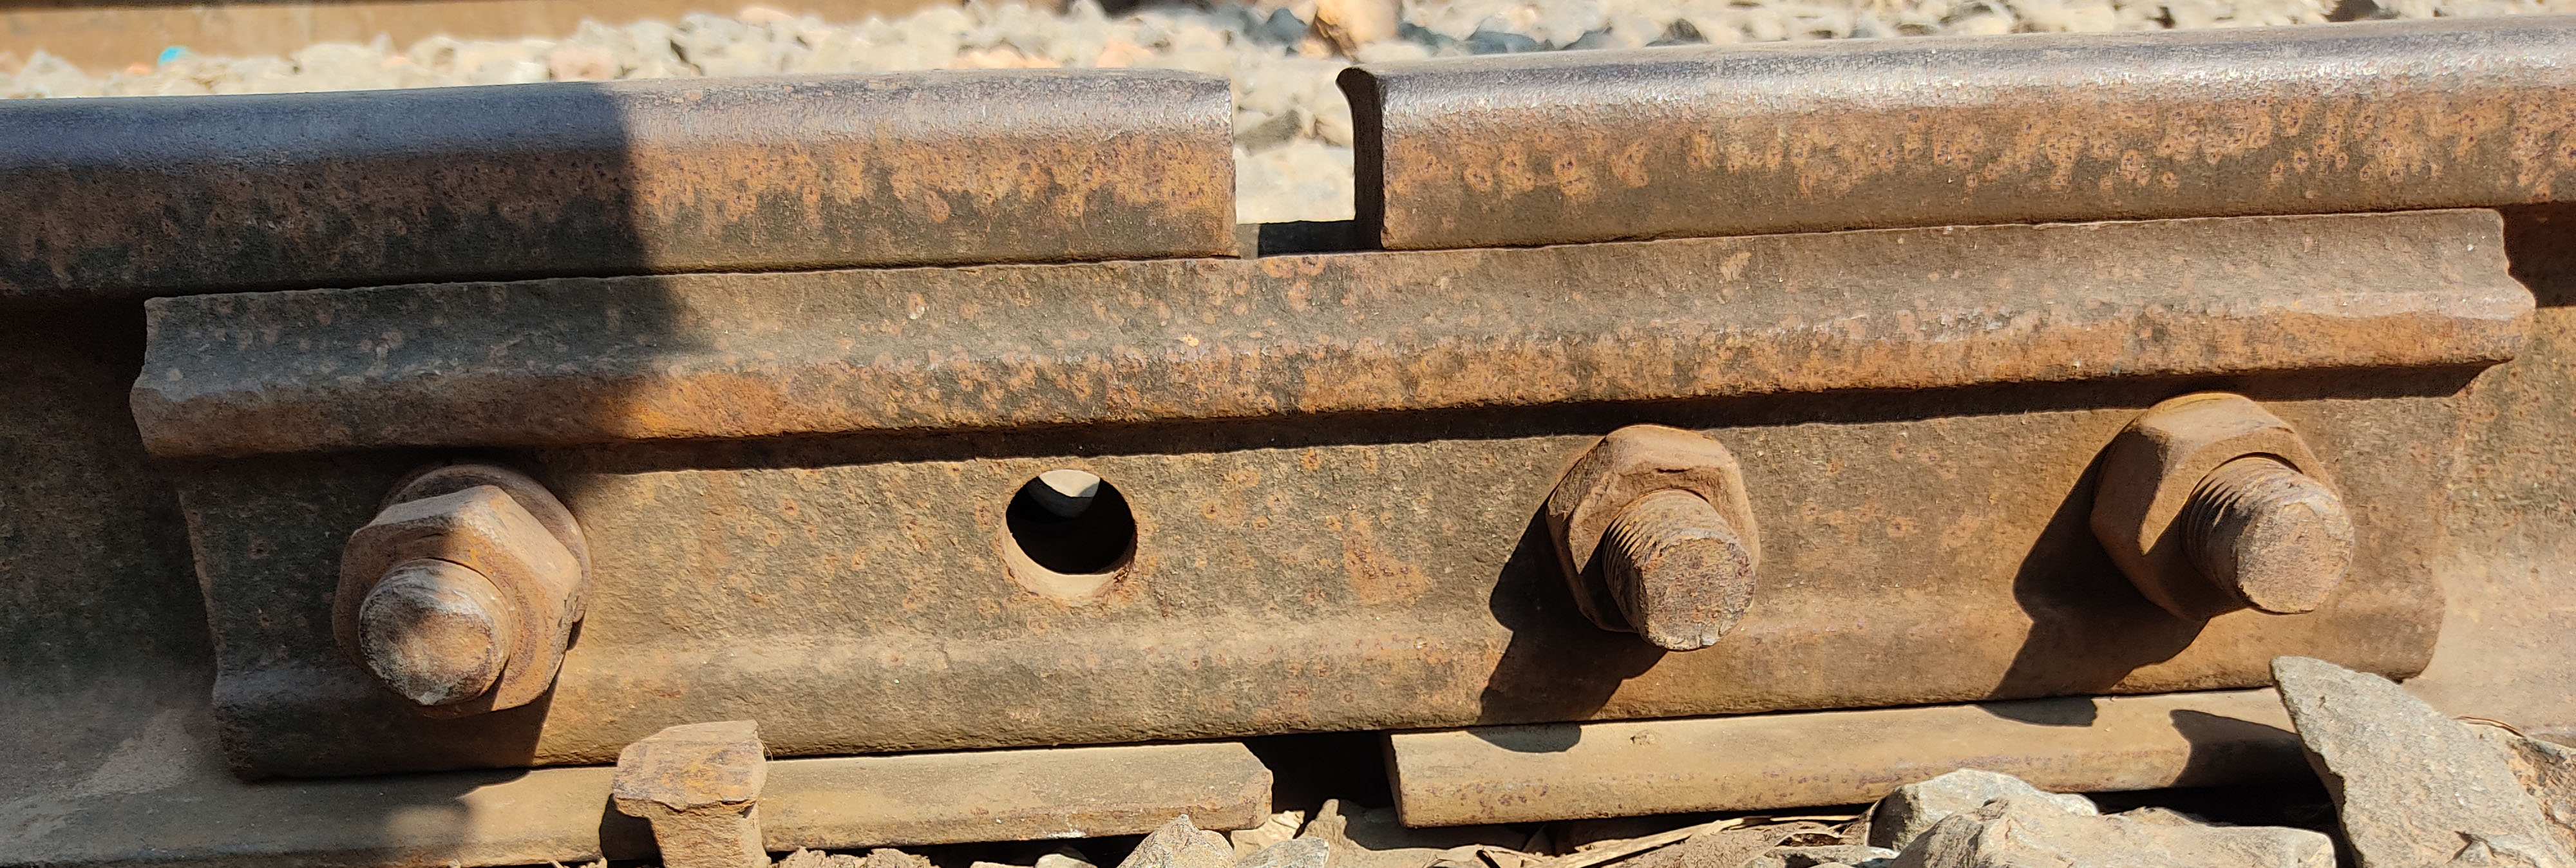error2: (1191, 21, 1429, 278)
